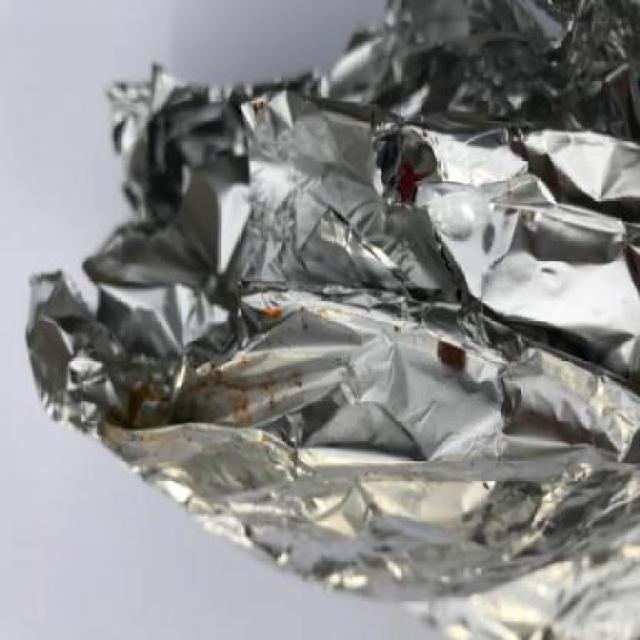METAL: (23, 1, 639, 638)
